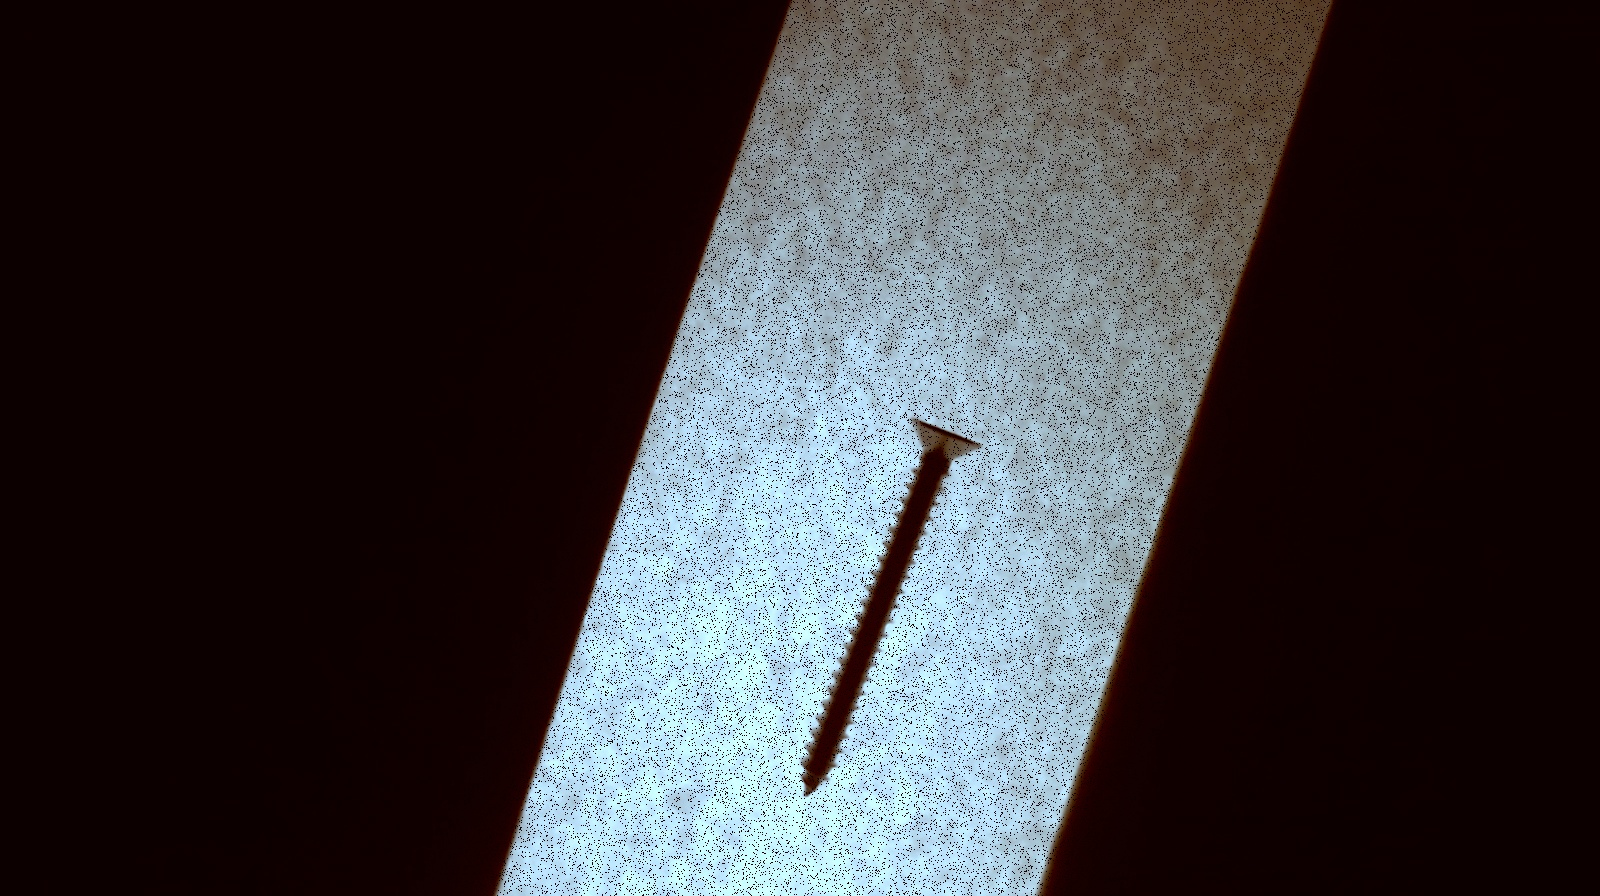S002: (779, 409, 1000, 817)
